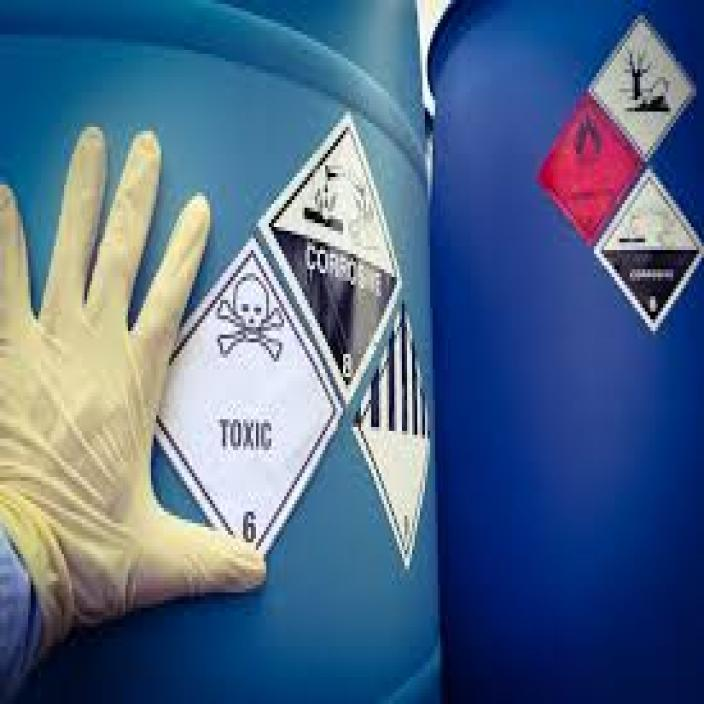door: (159, 239, 338, 550)
elevator buttons: (261, 112, 399, 396)
elevator doors: (353, 308, 430, 566)
